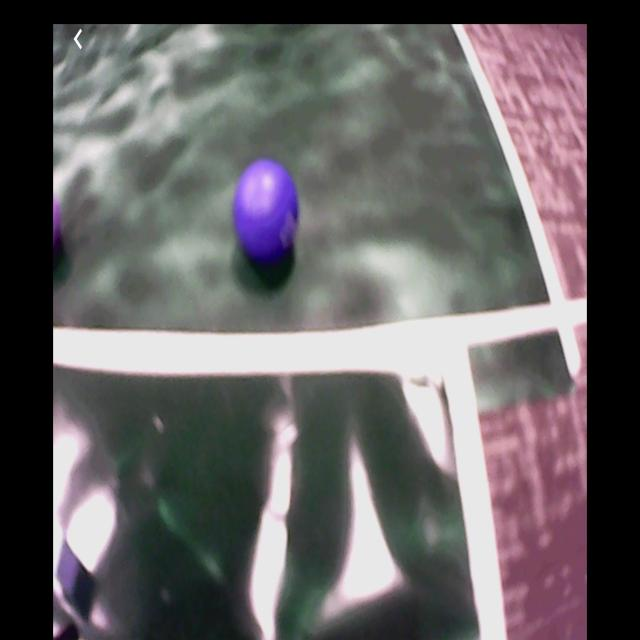ball: (238, 162, 301, 268), (55, 200, 70, 263)
